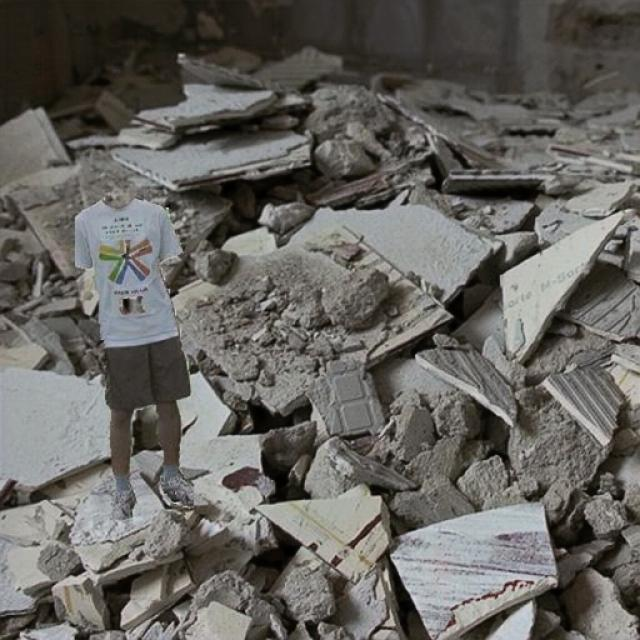Person in Rubble: (75, 196, 193, 519)
